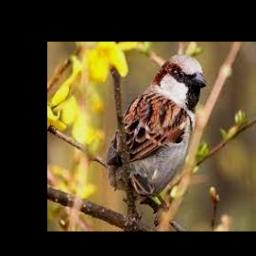Sparrow: (107, 54, 208, 211)
